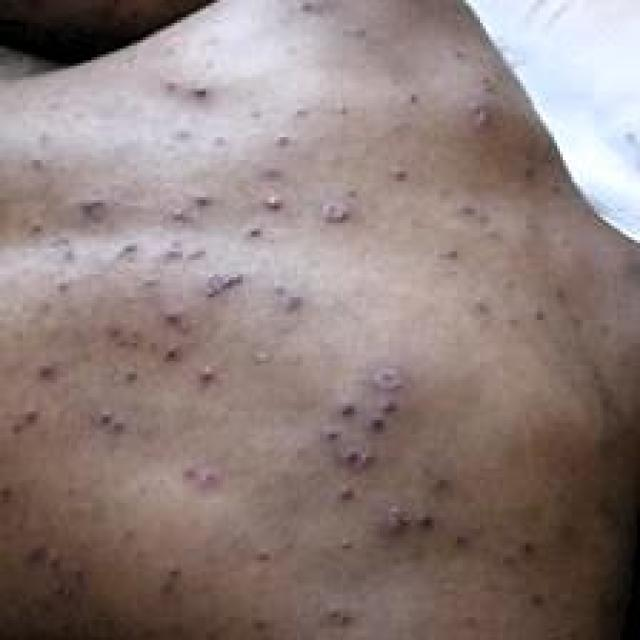others: (6, 4, 589, 640)
